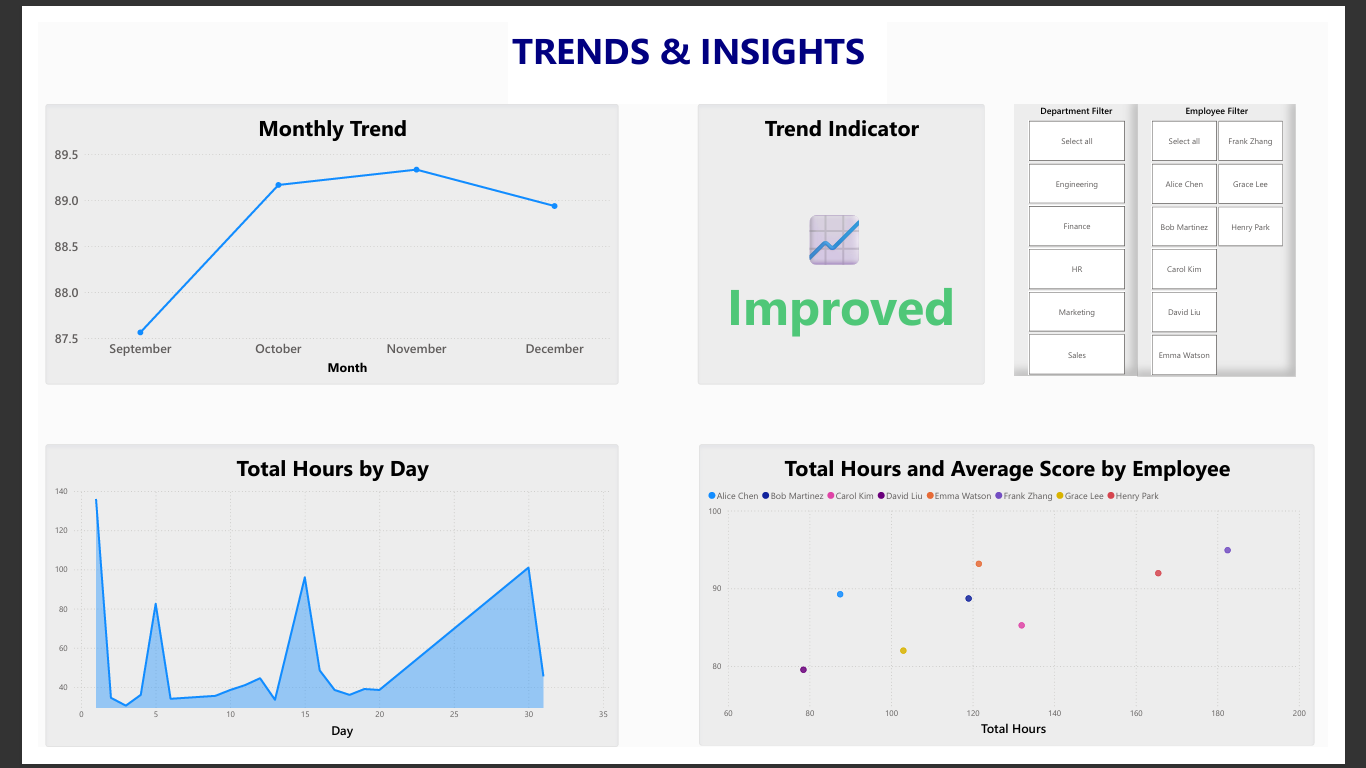

The page's visual inventory and layout, read from the dashboard file:
{"tool":"powerbi","page":{"name":"Trends and Insights","canvas":[1920,1080],"ordinal":3},"visuals":[{"type":"lineChart","title":"Monthly Trend","fields":{"Category":["PerformanceData.Date.Variation.Date Hierarchy.Month"],"Y":["PerformanceData.Average Score"]},"box":[11.1,122.2,853.3,417.8],"z":0},{"type":"scatterChart","fields":{"X":["PerformanceData.Total Hours"],"Y":["PerformanceData.Average Score"],"Series":["PerformanceData.Employee"]},"box":[984.4,628.9,915.6,448.9],"z":2000},{"type":"card","title":"Trend Indicator","fields":{"Values":["PerformanceData.Trend Indicator"]},"box":[982.2,122.2,426.7,417.8],"z":3000},{"type":"areaChart","fields":{"Category":["PerformanceData.Date.Variation.Date Hierarchy.Day"],"Y":["PerformanceData.Total Hours"]},"box":[11.1,628.9,853.3,451.1],"z":3001},{"type":"slicer","title":"Department Filter","fields":{"Values":["PerformanceData.Department"]},"box":[1454.3,122.9,182.9,404.3],"z":3002},{"type":"textbox","box":[700,0,564.4,122.2],"z":3003},{"type":"slicer","title":"Employee Filter","fields":{"Values":["PerformanceData.Employee"]},"box":[1637.2,123.3,234.9,404.7],"z":3004}]}

Visuals, with their boxes in screenshot pixels (x1, y1, x2, y2), scaled from the page's 1920x1080 canvas onto the 1366x768 screenshot:
"Monthly Trend" lineChart: 8:87:615:384
scatterChart - PerformanceData.Total Hours x PerformanceData.Average Score: 700:447:1352:766
"Trend Indicator" card: 699:87:1002:384
areaChart - PerformanceData.Date.Variation.Date Hierarchy.Day x PerformanceData.Total Hours: 8:447:615:767
"Department Filter" slicer: 1035:87:1165:375
textbox: 498:0:900:87
"Employee Filter" slicer: 1165:88:1332:375
